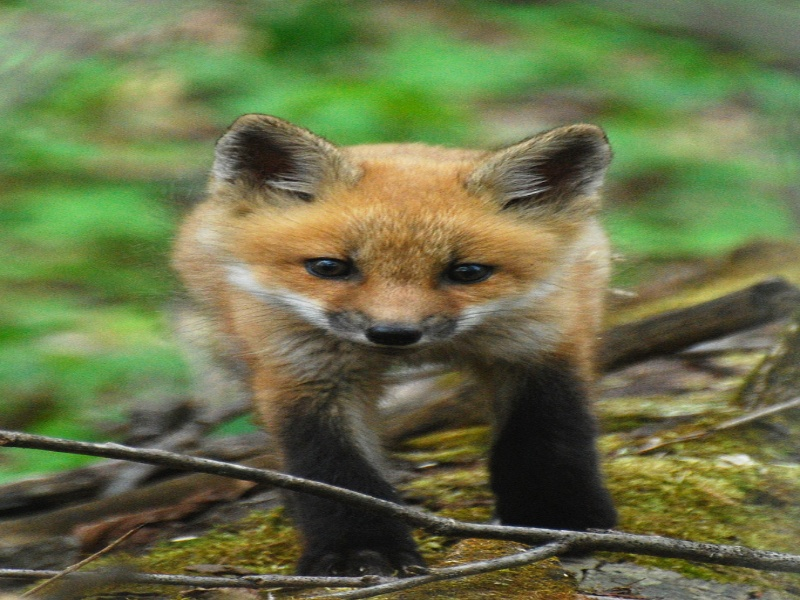fox: (174, 111, 632, 571)
